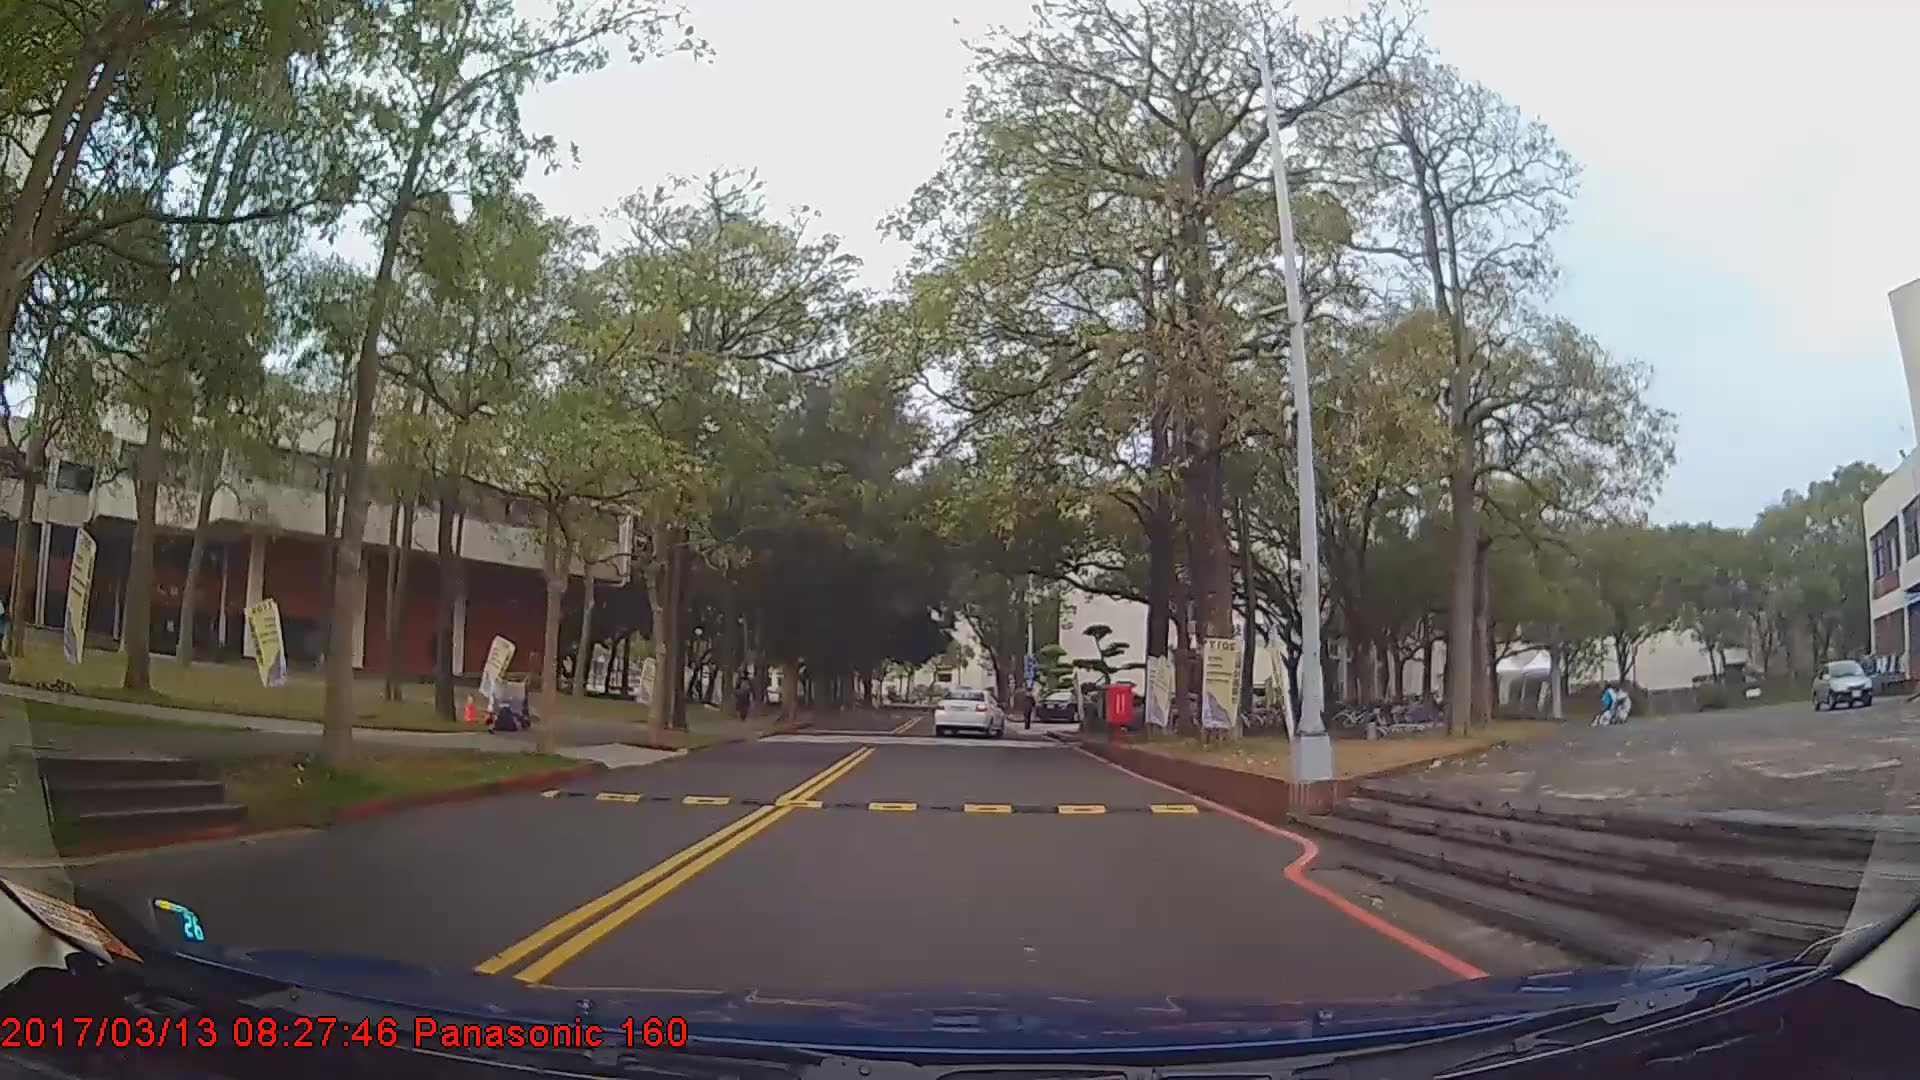pedestrian: (734, 670, 758, 725)
vehicle: (1808, 652, 1883, 710), (933, 687, 1006, 739), (1035, 689, 1090, 721)
